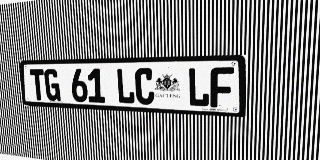1: (87, 68, 105, 103)
6: (70, 69, 88, 102)
C: (135, 68, 155, 105)
F: (210, 67, 234, 108)
G: (44, 69, 61, 101)
L: (188, 67, 210, 107), (116, 68, 135, 104)
T: (29, 69, 46, 101)
